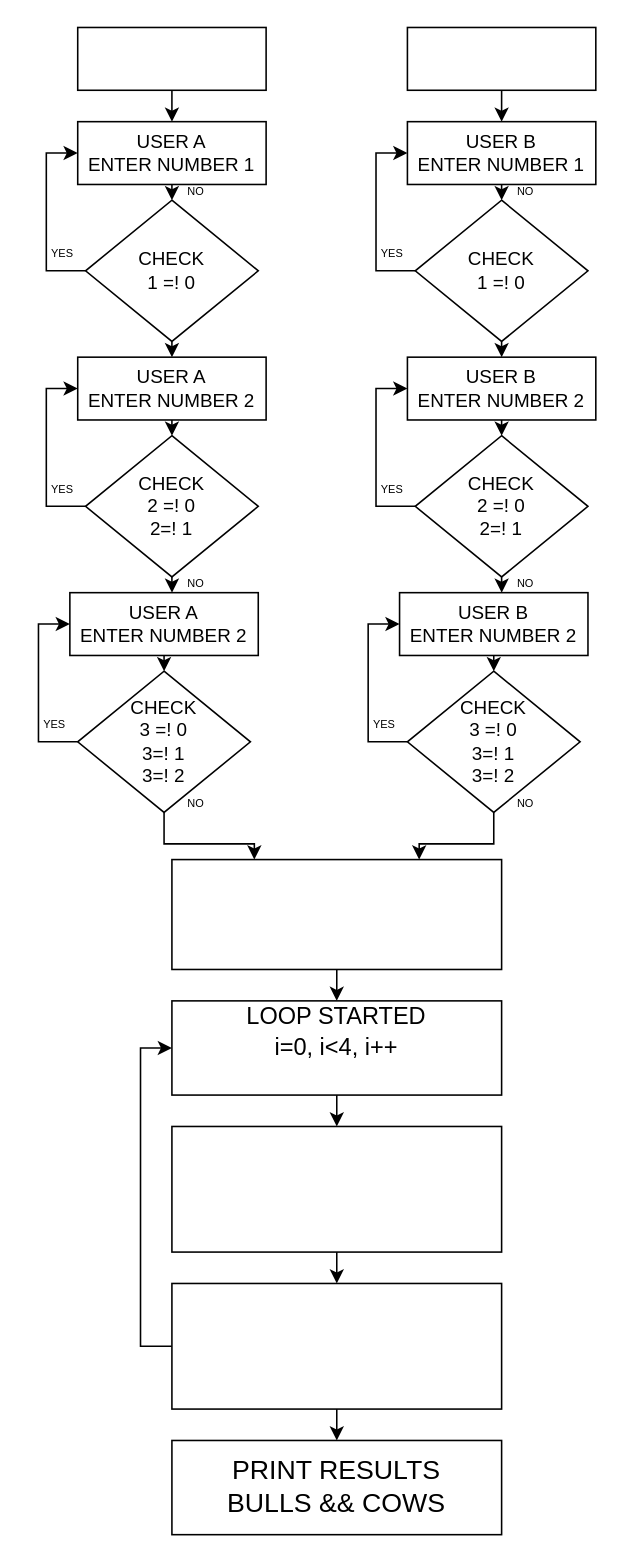
The diagram is 623 pixels wide and 1562 high, and some of its shapes have lost their labels. The shapes that lost their labels are listed below. From the top down, each one's centre as x and y in pixels, then its label:
At (171,58): "USER A ENTER NUMBER 0".
At (501,58): "USER B ENTER NUMBER 0".
At (336,913): "USER A - ARRAY A USER B - ARRAY B".
At (336,1188): "IF ELEMENT form A and place i is = element form B and place i COWS ++".
At (336,1345): "IF ELEMENT form A and place i is = element form B and place != i BULLS ++".
